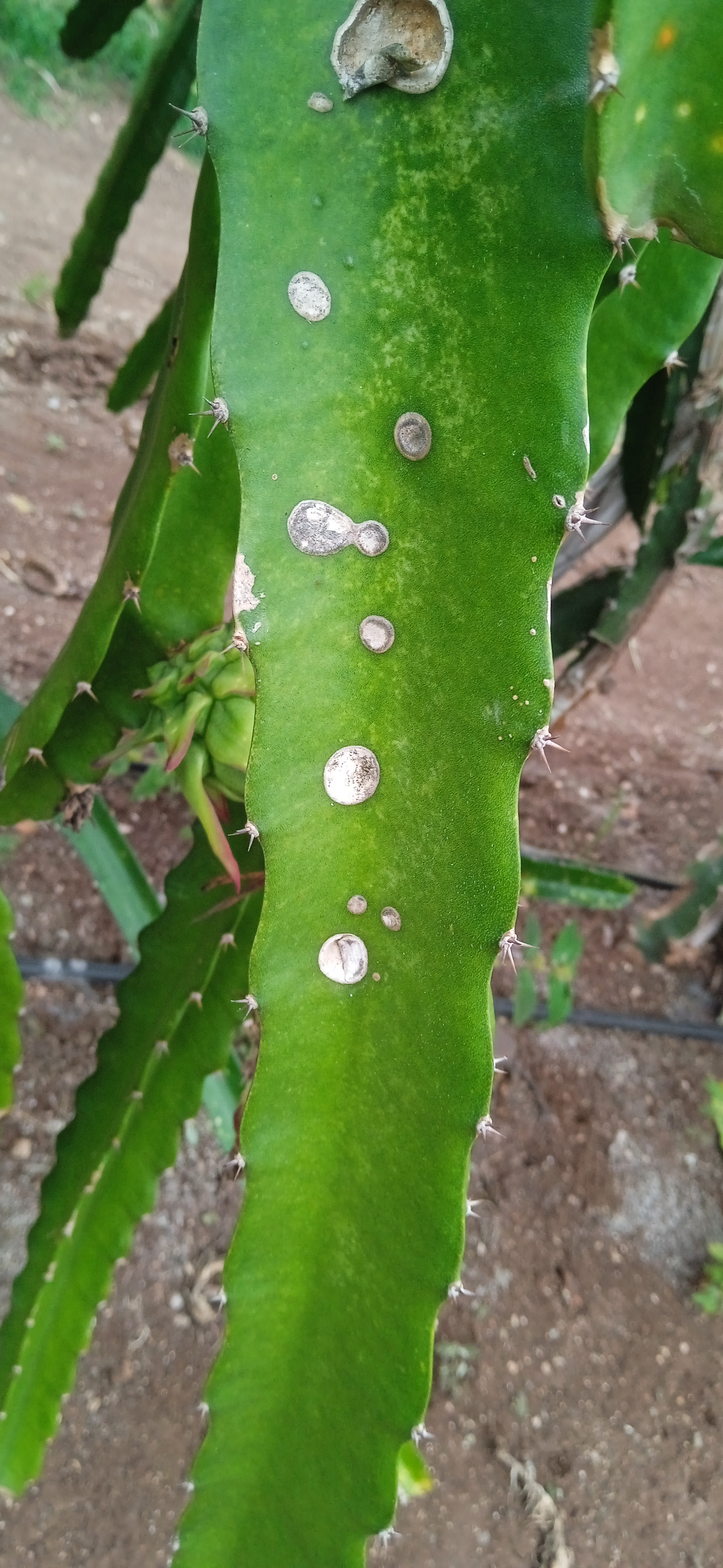stemcanker: (327, 0, 456, 103), (285, 498, 392, 559), (322, 743, 384, 809), (316, 932, 371, 987), (285, 268, 334, 325), (392, 409, 434, 463), (232, 553, 260, 616), (358, 613, 398, 656), (378, 905, 404, 934), (307, 92, 336, 115), (346, 893, 369, 917)
